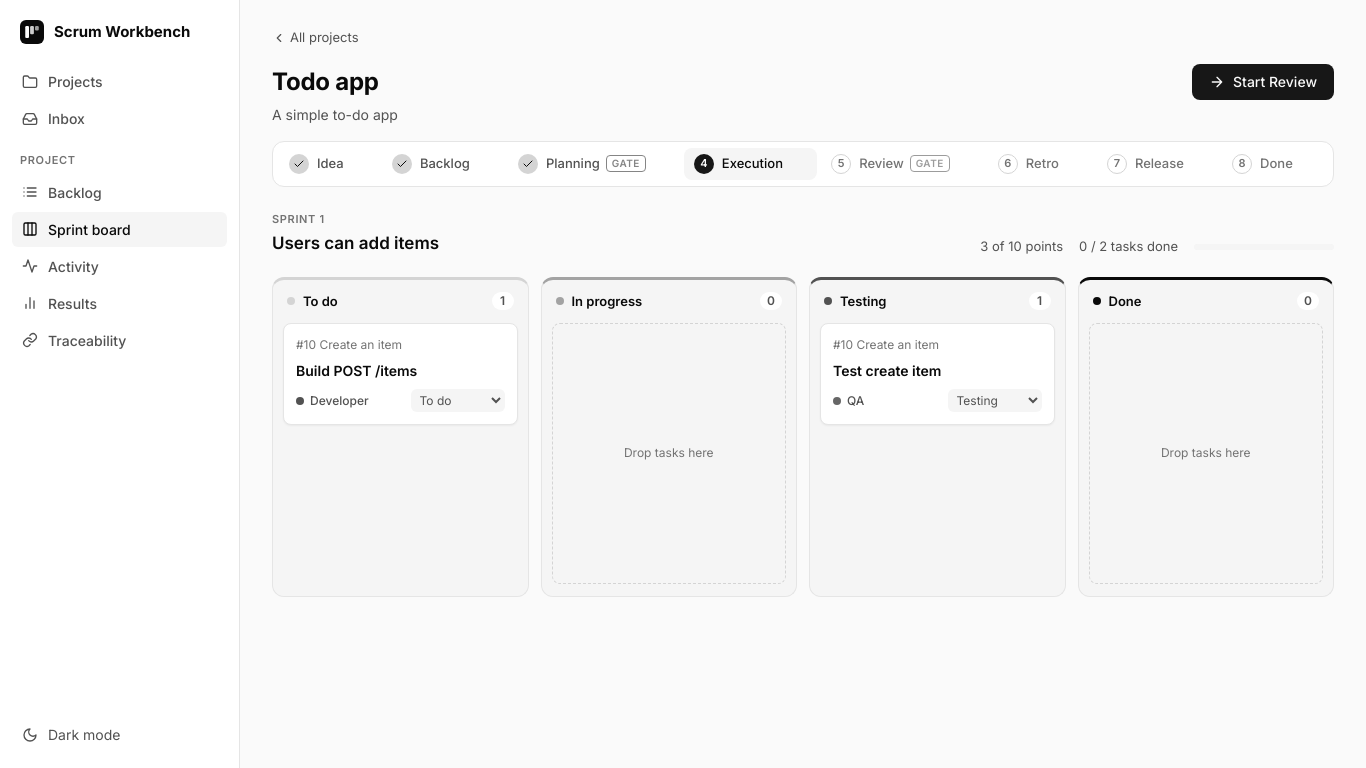
Test: BoardPage › moves a task with the status menu and saves it
Select "Done" in the dropdown named "Status of \"Build POST /items\"". click: [458, 400]
box: [410,389,504,412]
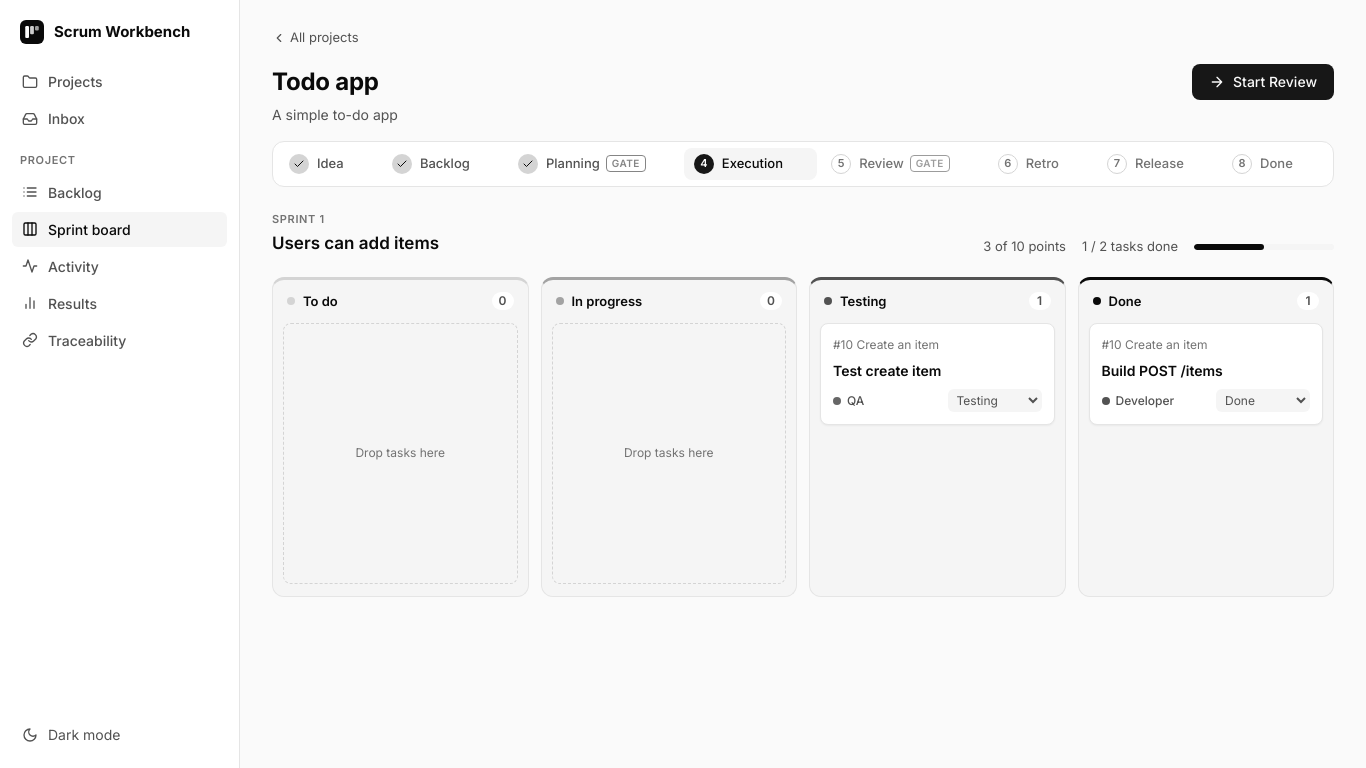
Expected: the text "Build POST /items" is shown, [1102,362,1223,379]
Now the text "1 / 2 tasks done" is shown, box [1082,237,1178,256]
